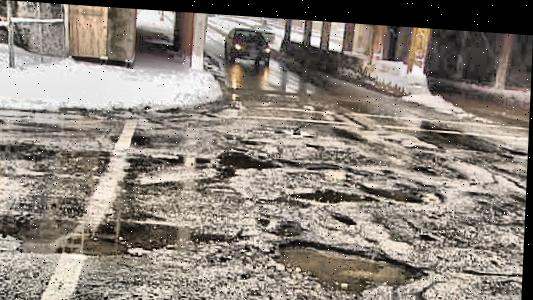pothole: (267, 231, 430, 294), (0, 208, 187, 262), (347, 170, 447, 203), (290, 181, 378, 201), (217, 143, 283, 169)
